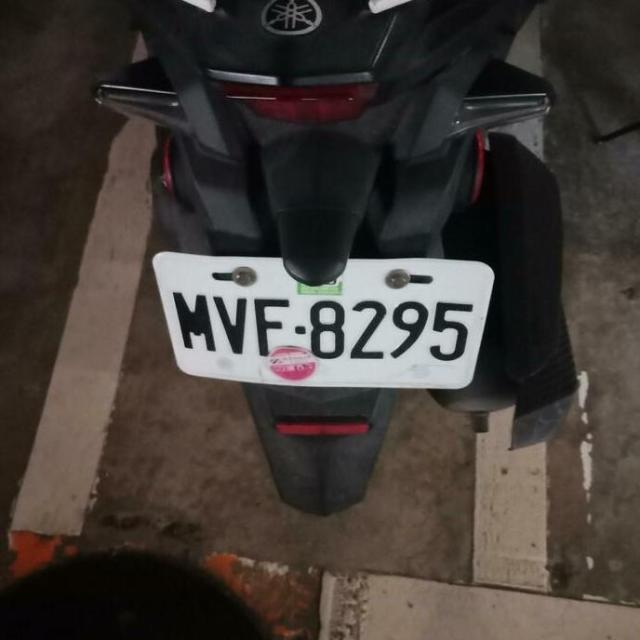W: (144, 240, 501, 398)
